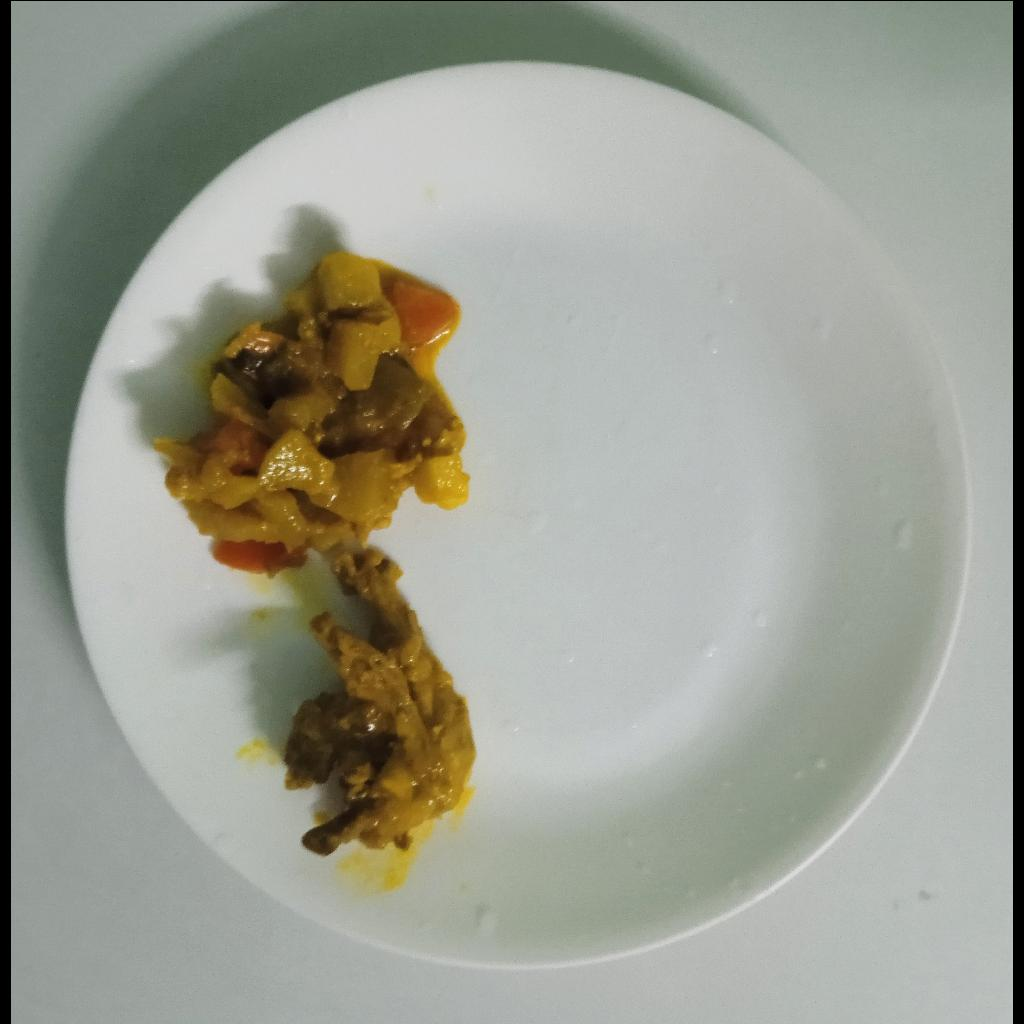chicken: (277, 548, 475, 860)
vegetable: (151, 249, 473, 575)
